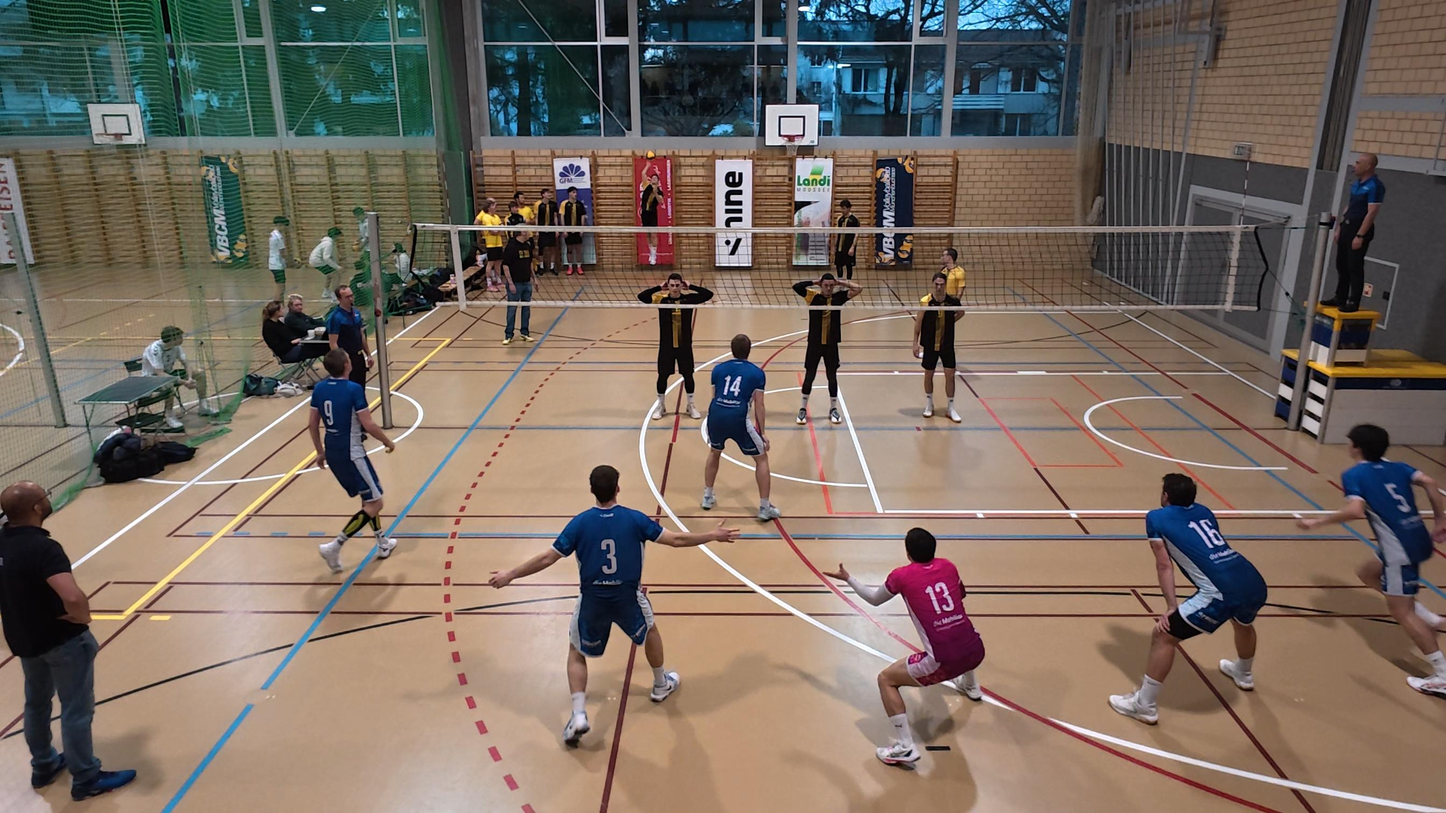battuta: (633, 154, 669, 271)
